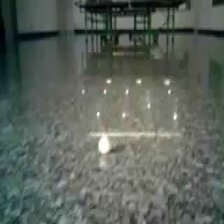w: (97, 138, 111, 155)
